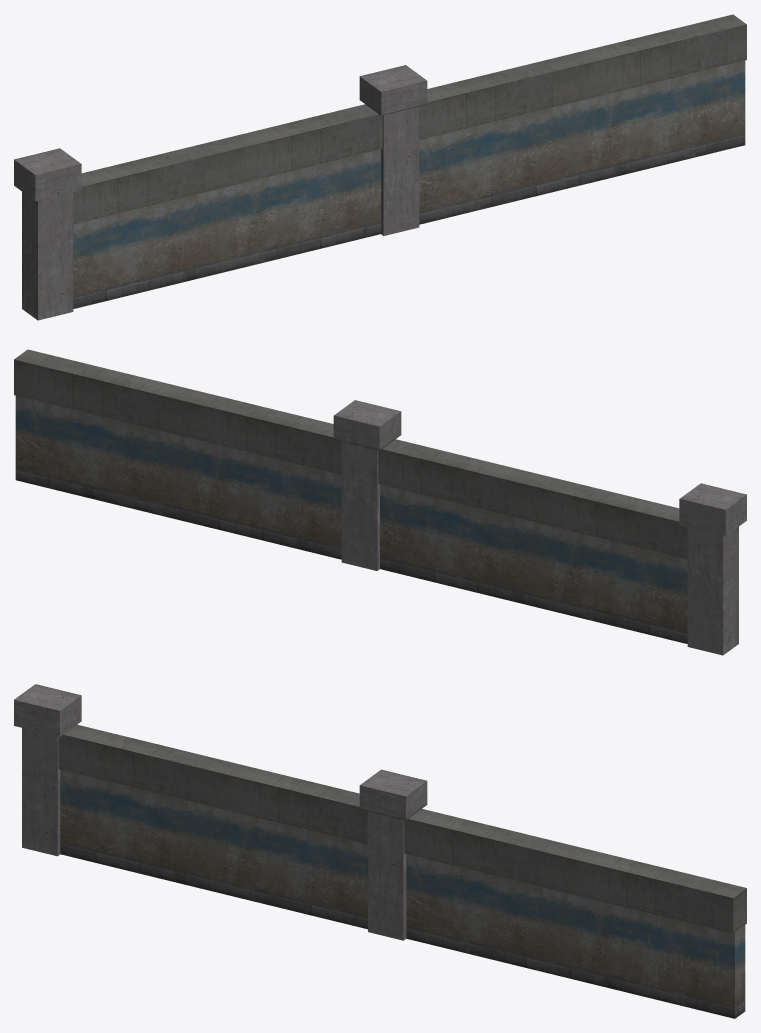
File: Cover_WallB2.glb
The picture shows the model from 3 angles, top to bottom: view 1: azimuth 30°, elevation 25°; view 2: azimuth 150°, elevation 25°; view 3: azimuth 330°, elevation 25°; orthographic projection.
Parts seen in each view (by area): view 1: xiutz_wall_b2; view 2: xiutz_wall_b2; view 3: xiutz_wall_b2.
Part boxes in pixels (x1,y1,x2,y2): xiutz_wall_b2: (14, 14, 746, 320); xiutz_wall_b2: (14, 349, 746, 655); xiutz_wall_b2: (14, 684, 746, 1018).
Size of the model in its own units: 9.81 by 1.95 by 0.5101.
1 material, 1 textured.
